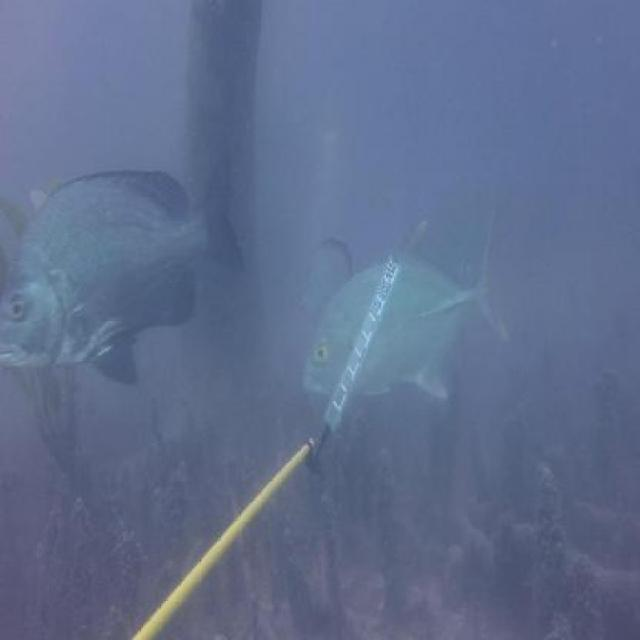Caranx: (302, 205, 510, 408)
acanthopagrus_palmaris: (1, 142, 248, 388), (300, 234, 355, 317)
